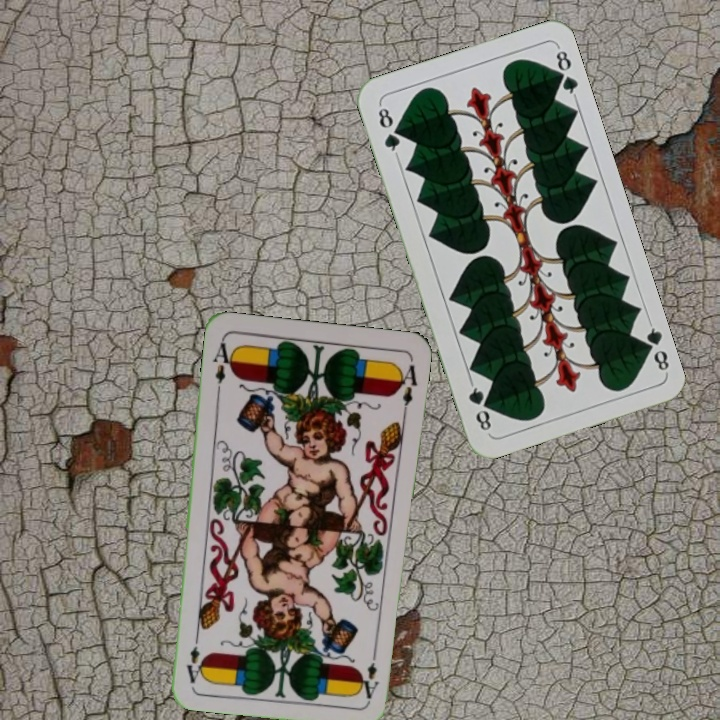EA: (209, 336, 237, 395), (360, 644, 382, 703)
G8: (636, 318, 672, 375), (374, 101, 403, 158)
